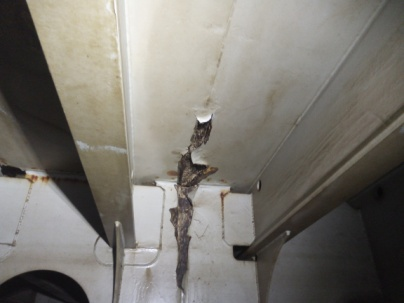corrosion: (157, 190, 211, 300), (163, 153, 223, 184), (173, 112, 217, 145)
